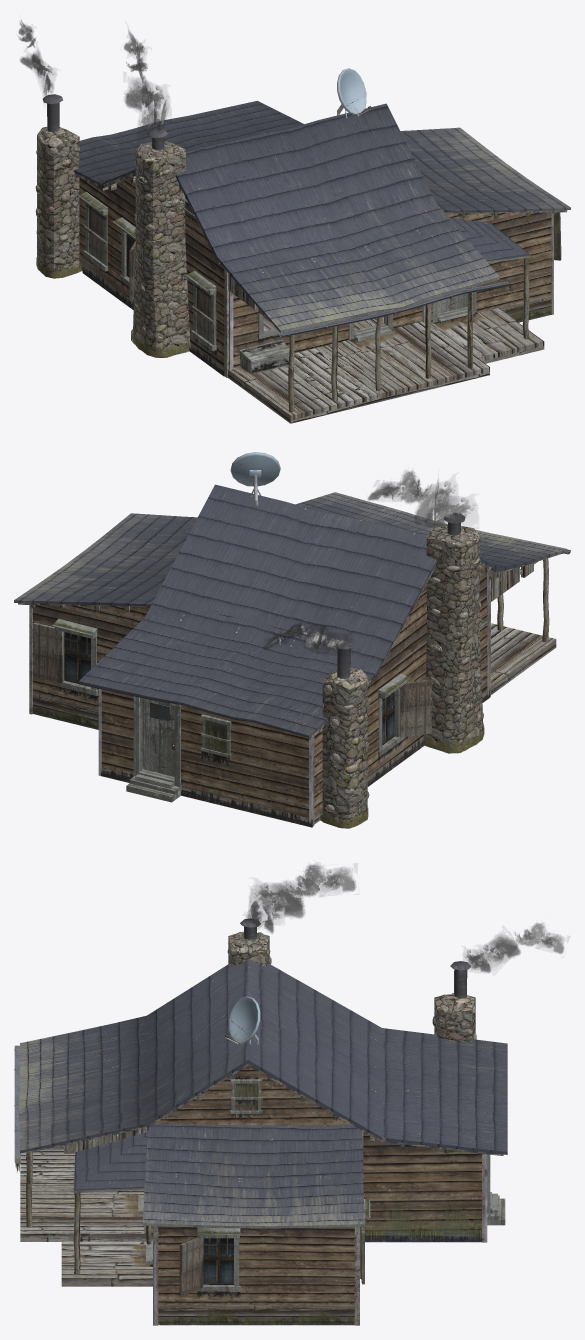
Rendered from cabane2.glb.
3 renders of one model, top to bottom at view 1: azimuth 30°, elevation 25°; view 2: azimuth 150°, elevation 25°; view 3: azimuth 270°, elevation 25°, orthographic. The views are drawn at different scales.
Parts seen in each view (by area): view 1: Cabane, Cabin8_T_Smoke_0, Cabin8_T_Doors_Windows_Crate_0, Cabin8_Decal3_0, Cabin8_Decal7_0, Cabin8_Decal_Windows_0, Cabin8_Decal4_0; view 2: Cabane, Cabin8_T_Smoke_0, Cabin8_Decal3_0, Cabin8_smoke2_0, Cabin8_Decal4_0; view 3: Cabane, Cabin8_T_Smoke_0, Cabin8_Decal2_0, Cabin8_Decal3_0, Cabin8_smoke2_0, Cabin8_Decal7_0.
Part boxes in pixels (<box>): Cabane: <box>19,21,570,423</box>; Cabin8_T_Smoke_0: <box>19,23,166,132</box>; Cabin8_T_Doors_Windows_Crate_0: <box>239,340,289,374</box>; Cabin8_Decal3_0: <box>79,177,558,322</box>; Cabin8_Decal7_0: <box>349,312,487,350</box>; Cabin8_Decal_Windows_0: <box>86,258,288,373</box>; Cabin8_Decal4_0: <box>36,258,190,356</box>; Cabane: <box>14,452,570,828</box>; Cabin8_T_Smoke_0: <box>264,483,473,653</box>; Cabin8_Decal3_0: <box>32,597,485,753</box>; Cabin8_smoke2_0: <box>286,472,427,637</box>; Cabin8_Decal4_0: <box>321,726,483,827</box>; Cabane: <box>14,865,563,1325</box>; Cabin8_T_Smoke_0: <box>248,870,563,972</box>; Cabin8_Decal2_0: <box>165,1066,482,1241</box>; Cabin8_Decal3_0: <box>159,1199,368,1324</box>; Cabin8_smoke2_0: <box>290,865,543,945</box>; Cabin8_Decal7_0: <box>104,1195,152,1266</box>.
Size of the model in its own units: 11.62 by 8.58 by 14.24.
Materials: 16 (15 with a texture image).
